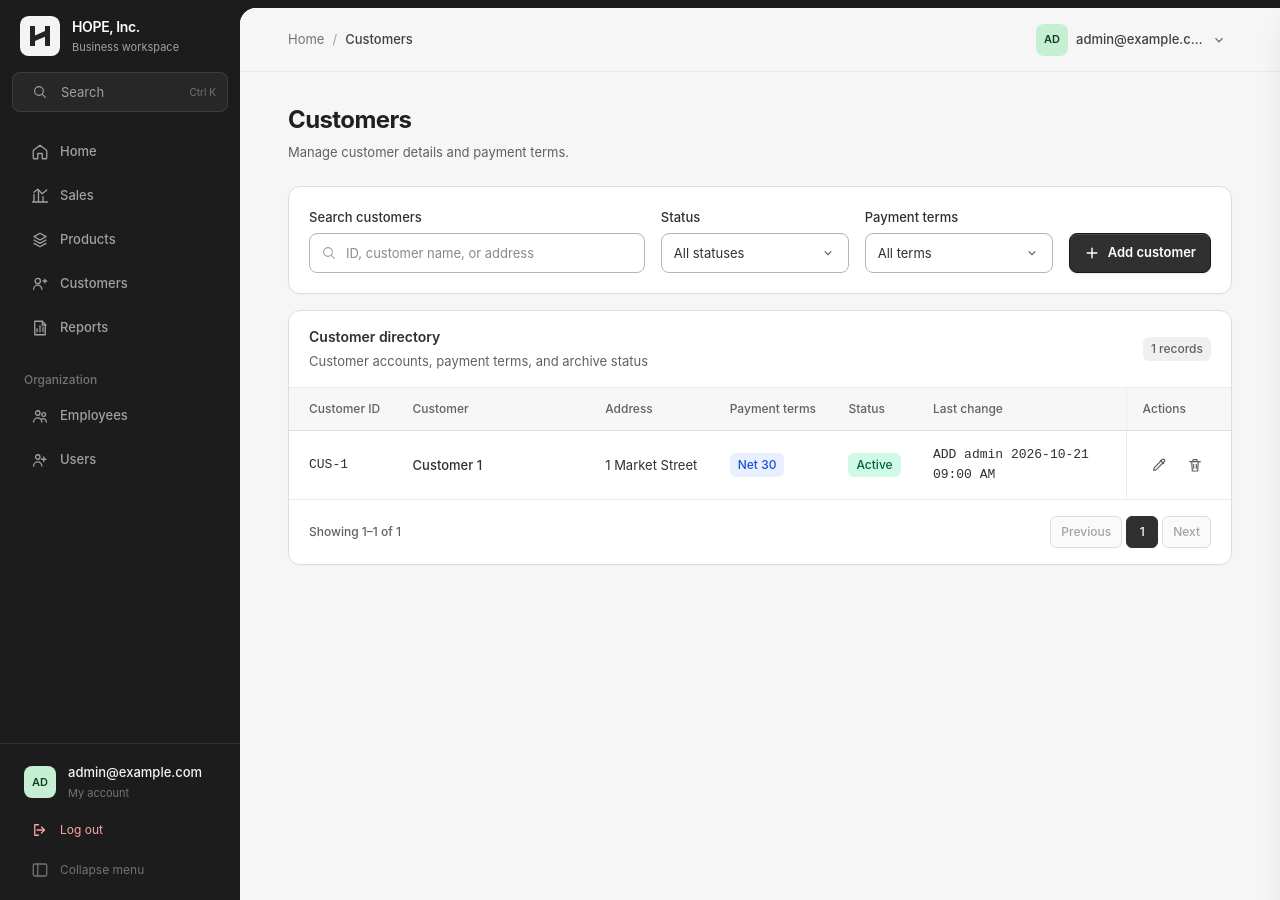
Test case: explains why a customer with active sales cannot be archived
Check: the text "Customer 1" is shown, box [396,431,589,499]
Click the button named "Archive Customer 1": (1195, 465) [1179,449,1211,481]
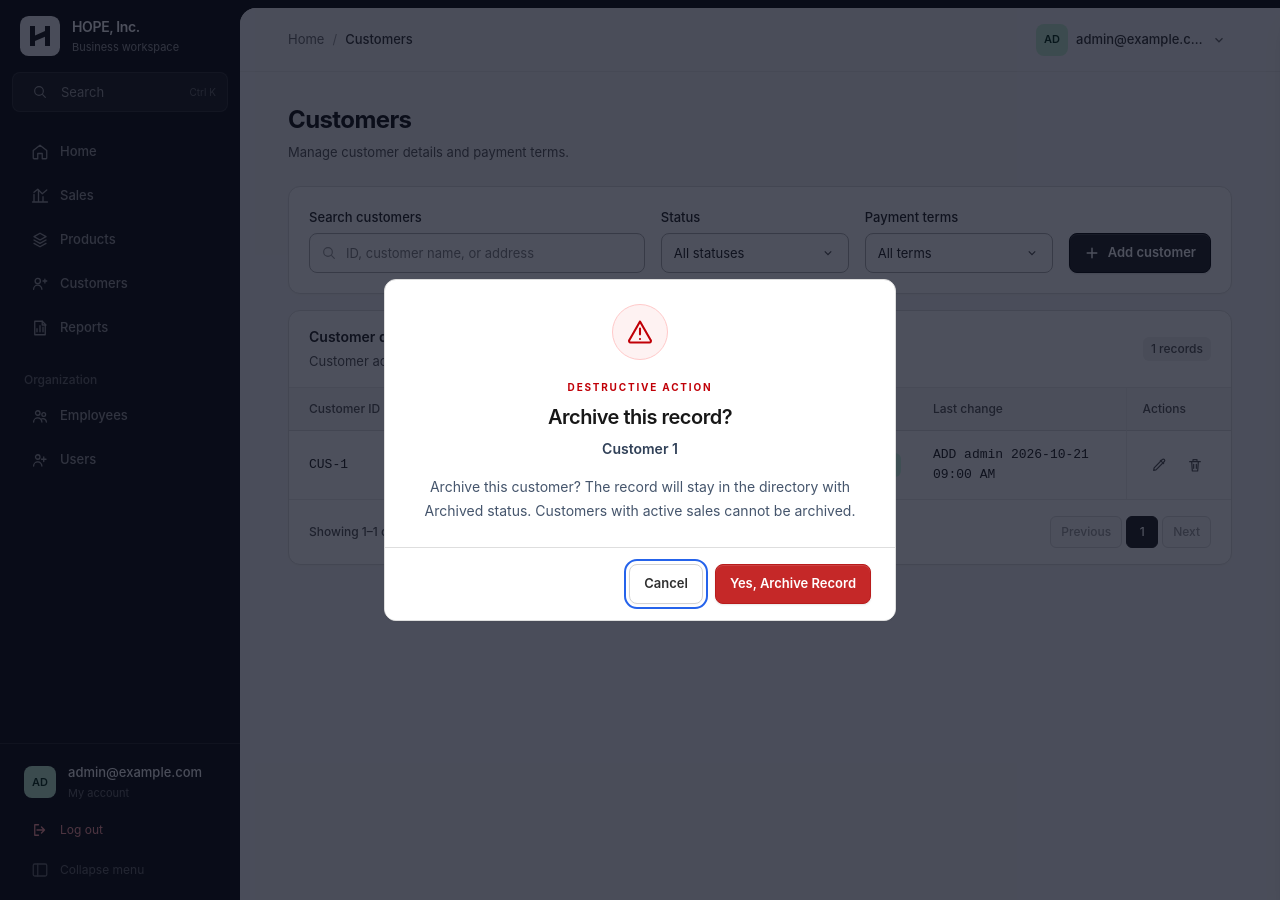
Click the button "Yes, Archive Record": (793, 584) [715,564,871,604]
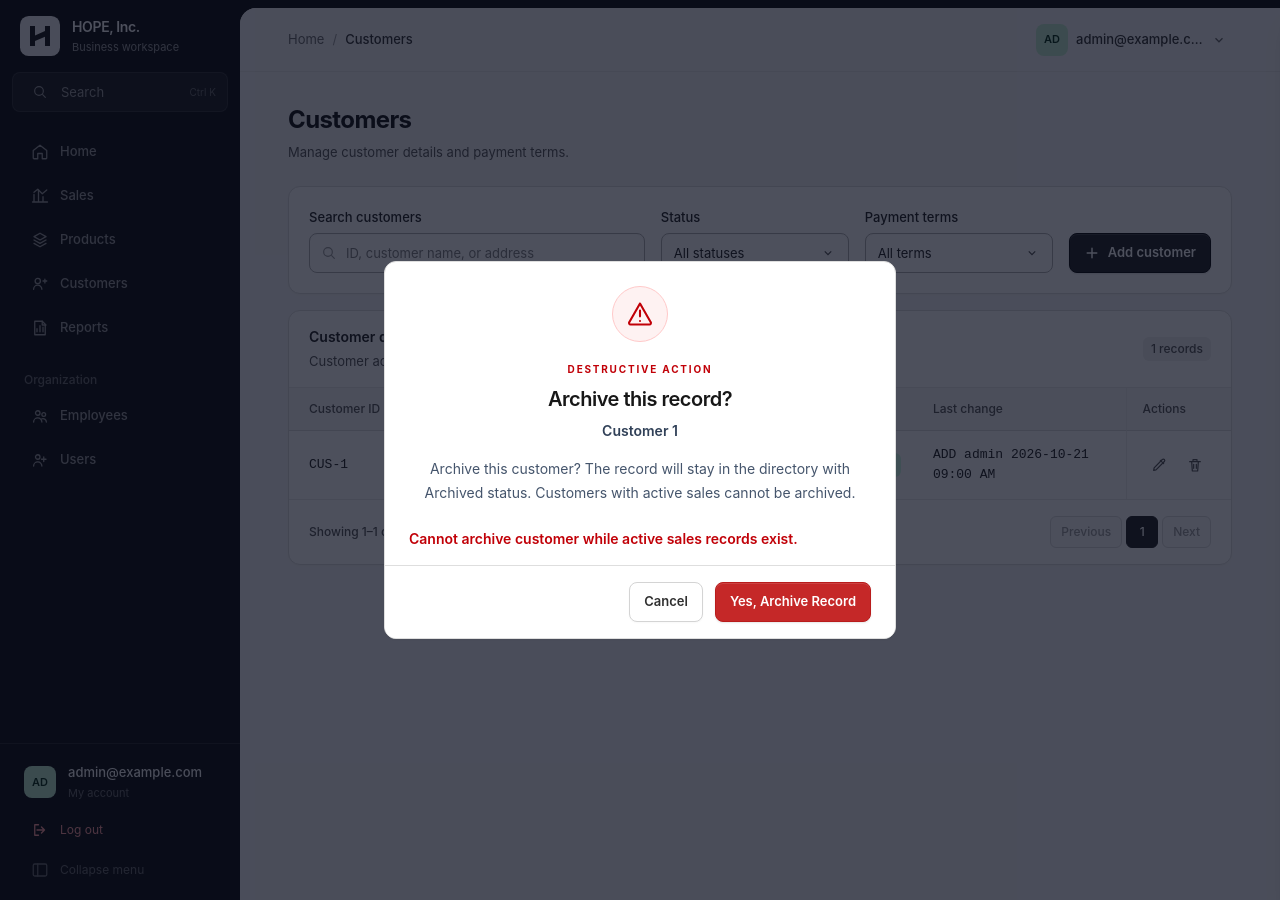
Check: the button named "Archive Customer 1" is shown, box [1179,449,1211,481]
Check: the dialog is shown, box [384,261,896,639]
Check: the message shows "active sales records", box [409,530,798,547]
